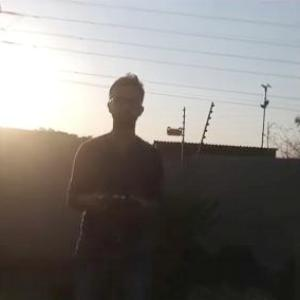follow: (59, 69, 167, 299)
